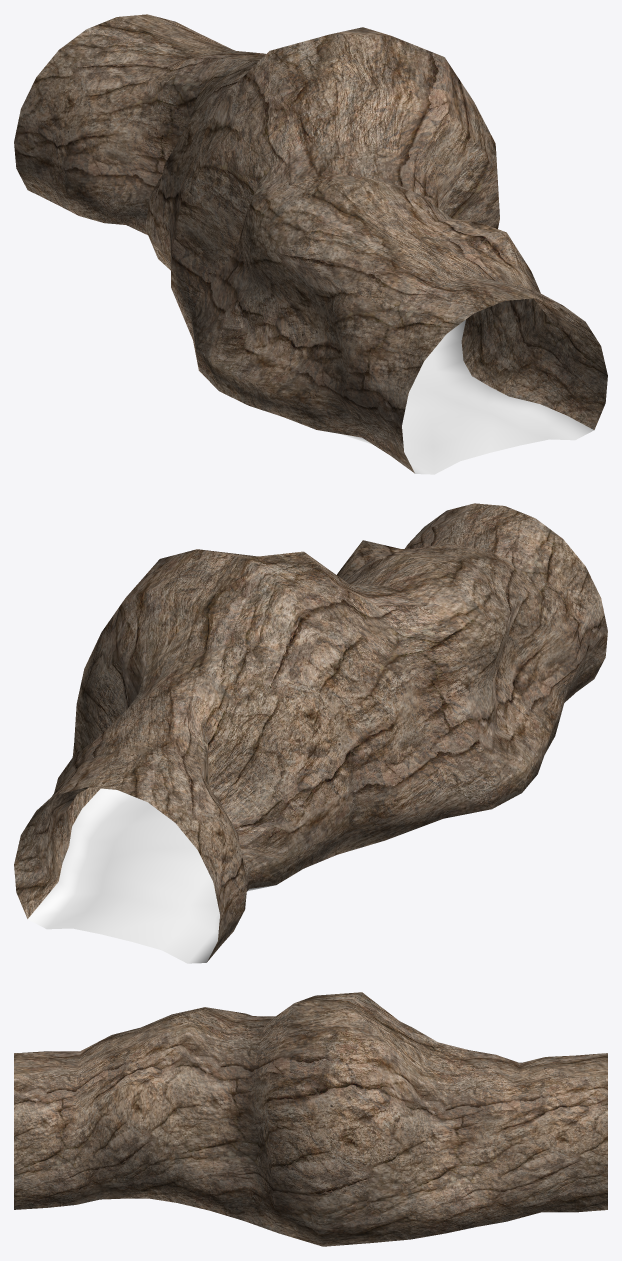
Rendered from CaveCorridorStraightWide.fbx.
3 views of the same model, one above another, from view 1: azimuth 30°, elevation 25°; view 2: azimuth 150°, elevation 25°; view 3: azimuth 270°, elevation 25° (orthographic). The views are drawn at different scales.
Parts seen in each view (by area): view 1: CaveCorridorStraightWide; view 2: CaveCorridorStraightWide; view 3: CaveCorridorStraightWide.
Boxes of the visible parts, bbox=[...] form: CaveCorridorStraightWide: bbox=[14, 14, 607, 474]; CaveCorridorStraightWide: bbox=[14, 503, 607, 963]; CaveCorridorStraightWide: bbox=[14, 992, 607, 1246].
Size of the model in its own units: 536 by 385 by 1040.
